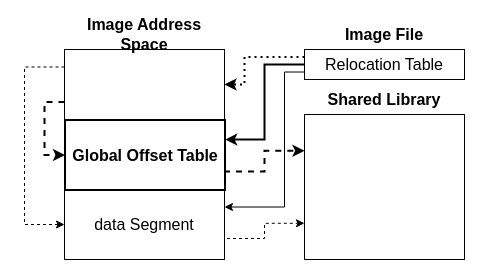
The diagram is 482 pixels wide and 277 high, and some of its shapes have lost their labels. Each missing label, with the centre of its shape:
Externally Linked Data: (384,187)
text Segment: (144,84)
